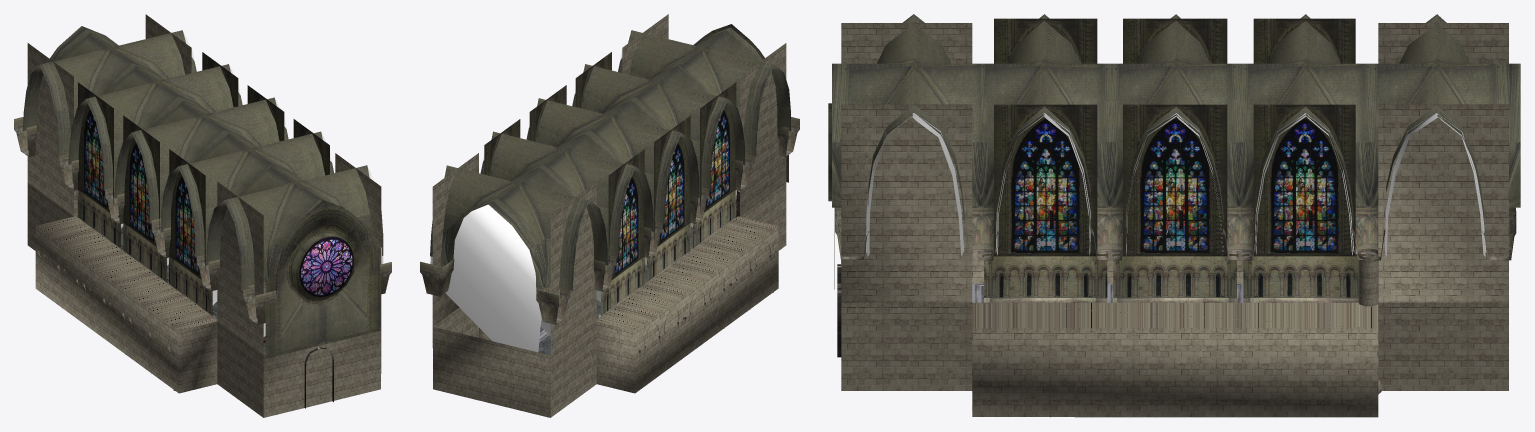
File: church.FBX
The picture shows the model from 3 angles, left to right: view 1: azimuth 30°, elevation 25°; view 2: azimuth 150°, elevation 25°; view 3: azimuth 270°, elevation 25°; orthographic projection. The views are drawn at different scales.
Parts seen in each view (by area): view 1: roof2, room, Doorway, lf_side, rt_side, fog; view 2: roof2, room, lf_side, fog, rt_side, Doorway; view 3: room, rt_side, roof2, lf_side, fog, pillar, Doorway.
Boxes of the visible parts, box(x1,y1,x2,y2) form: roof2: box(14, 26, 391, 324); room: box(27, 14, 381, 417); Doorway: box(265, 200, 380, 409); lf_side: box(37, 82, 215, 390); rt_side: box(202, 52, 329, 175); fog: box(121, 31, 383, 336); roof2: box(420, 27, 799, 324); room: box(432, 14, 786, 417); lf_side: box(598, 82, 776, 354); fog: box(430, 31, 739, 352); rt_side: box(484, 52, 611, 175); Doorway: box(693, 24, 788, 217); room: box(841, 23, 1508, 417); rt_side: box(982, 104, 1366, 417); roof2: box(832, 14, 1520, 260); lf_side: box(982, 18, 1355, 285); fog: box(866, 113, 1486, 277); pillar: box(1358, 248, 1378, 379); Doorway: box(828, 94, 841, 357).
Bounding box in the file's own units: 15.55 × 15.61 × 33.46.
